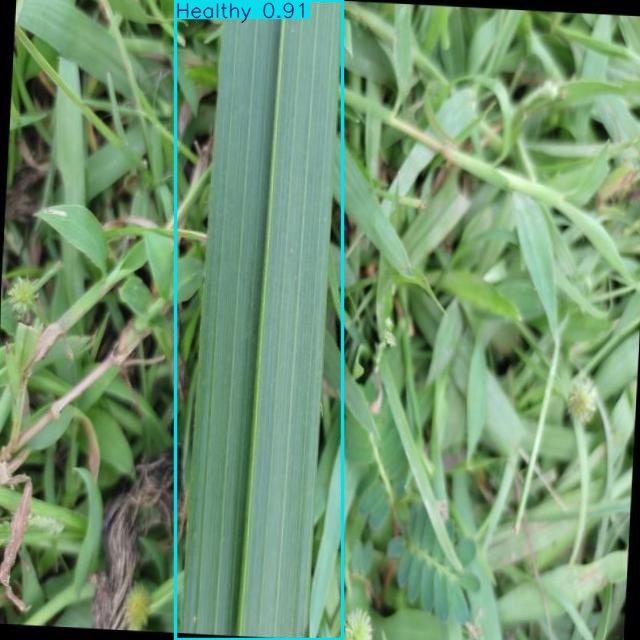Healthy: (176, 1, 343, 640)
